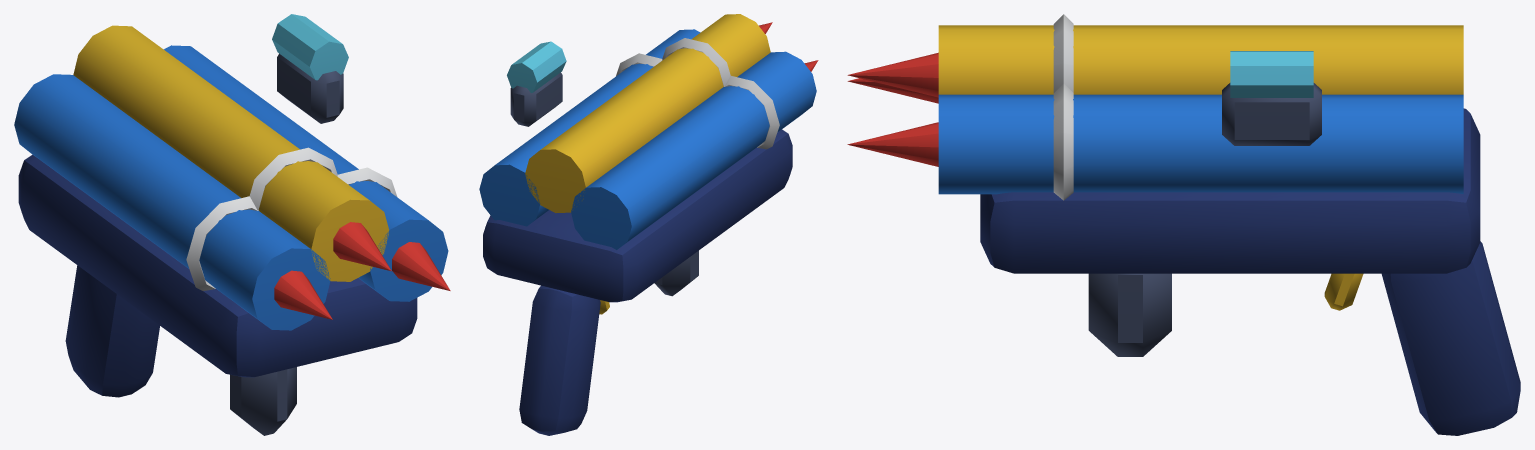
Rendered from w_j_rocket.glb.
3 renders of one model, left to right at view 1: azimuth 30°, elevation 25°; view 2: azimuth 150°, elevation 25°; view 3: azimuth 270°, elevation 25°, orthographic. The views are drawn at different scales.
Parts seen in each view (by area): view 1: body; view 2: body; view 3: body.
Boxes of the visible parts, <box> form: body: <box>14,14,450,435</box>; body: <box>479,14,818,435</box>; body: <box>847,14,1520,435</box>.
Bounding box in the file's own units: 0.364 × 0.5814 × 0.8086.
